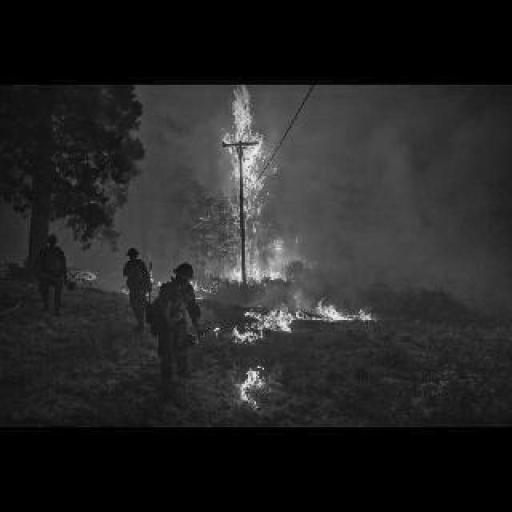smoke: (202, 90, 374, 339), (229, 362, 269, 408)
